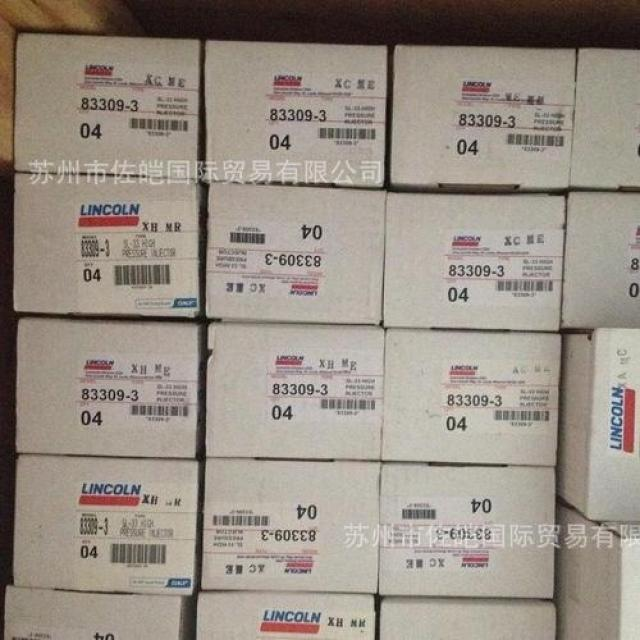box: (12, 170, 200, 320), (13, 33, 202, 179), (388, 46, 574, 192), (13, 456, 202, 597), (201, 42, 385, 185), (17, 318, 200, 459), (204, 184, 385, 326), (385, 192, 567, 333), (200, 461, 382, 595), (378, 461, 556, 598), (381, 329, 560, 465), (204, 324, 382, 460), (556, 328, 639, 524), (556, 497, 639, 639), (562, 192, 639, 332), (570, 47, 639, 192), (5, 587, 195, 639), (194, 591, 376, 639), (379, 595, 554, 639)
